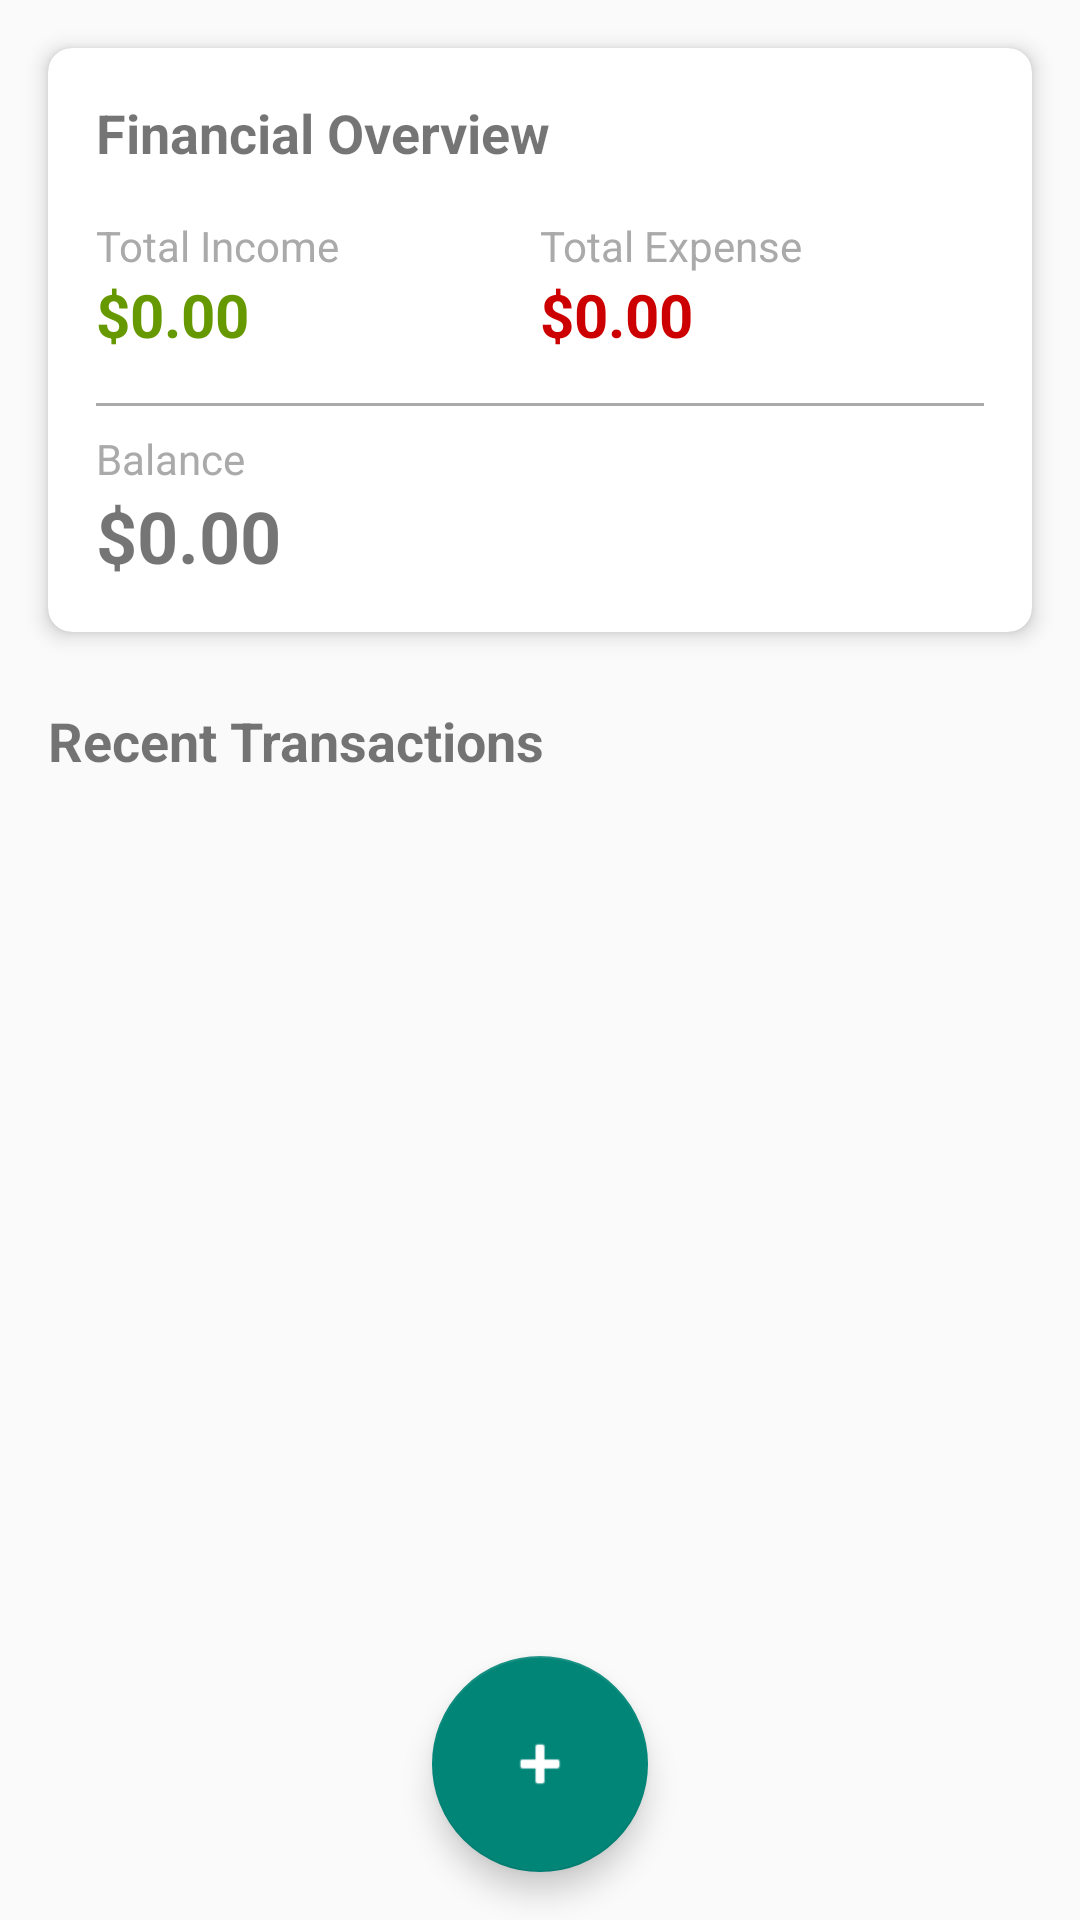

Point at icon controls on the screen. Image size 1080*1920, points as (x=x, y=y).
add: (x=540, y=1764)
